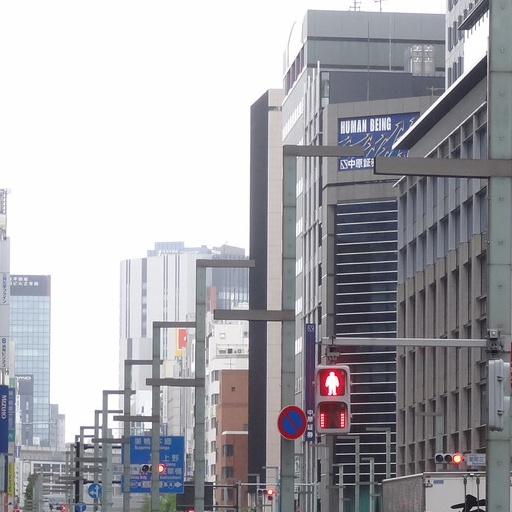Pedestrian_Signal_Red: (312, 353, 352, 434)
